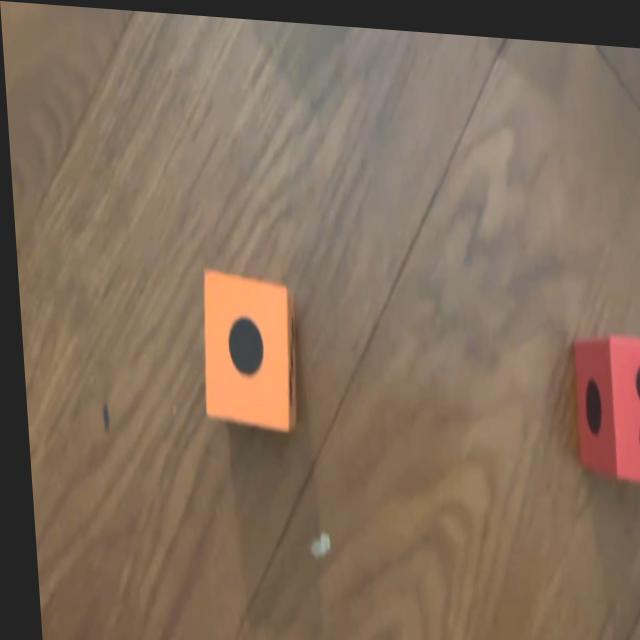cube: (567, 323, 640, 474)
